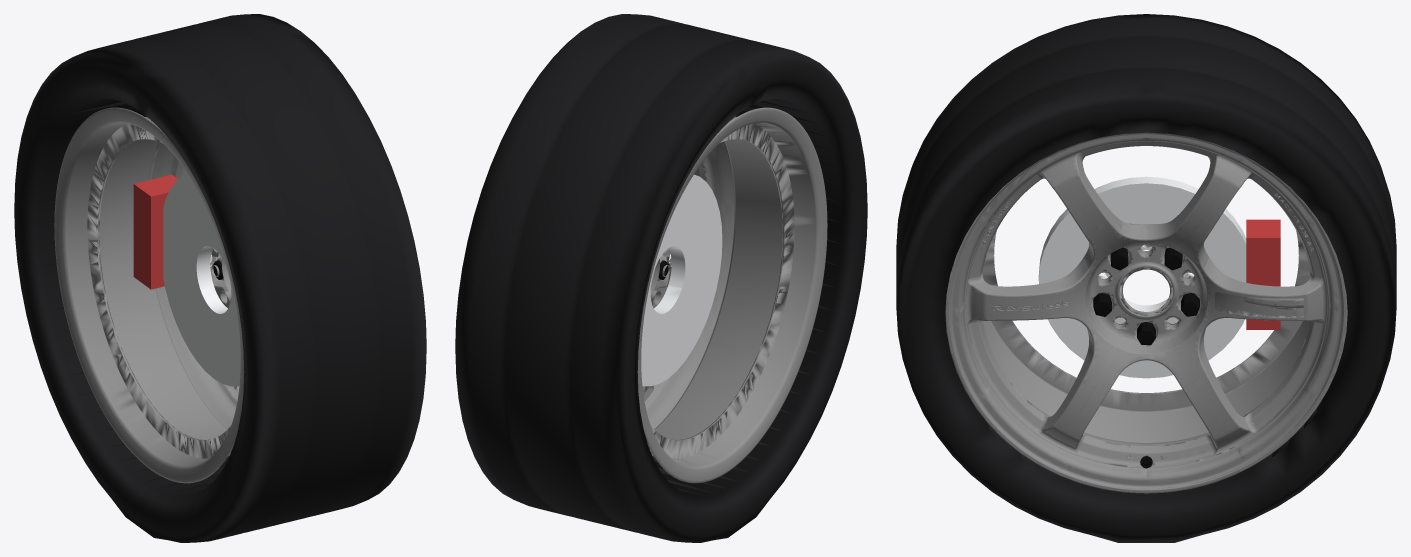
Rendered from WS02_gramlights_full.glb.
3 views of the same model, side by side, from view 1: azimuth 30°, elevation 25°; view 2: azimuth 150°, elevation 25°; view 3: azimuth 270°, elevation 25° (orthographic).
Visible parts, largest first — view 1: MOD_ND_WS02_tyre, MOD_ND_WS02_src_2, MOD_ND_WS02_disc, MOD_ND_WS02_caliper, MOD_ND_WS02_src_3, MOD_ND_WS02_src_5, MOD_ND_WS02_src_4; view 2: MOD_ND_WS02_tyre, MOD_ND_WS02_src_2, MOD_ND_WS02_disc, MOD_ND_WS02_src_3, MOD_ND_WS02_src_5, MOD_ND_WS02_src_4; view 3: MOD_ND_WS02_tyre, MOD_ND_WS02_src_4, MOD_ND_WS02_src_3, MOD_ND_WS02_src_5, MOD_ND_WS02_src_2, MOD_ND_WS02_disc, MOD_ND_WS02_src_6, MOD_ND_WS02_caliper, MOD_ND_WS02_src_0.
Boxes of the visible parts, x1,y1,x2,y2 form: MOD_ND_WS02_tyre: [14, 14, 426, 542]; MOD_ND_WS02_src_2: [54, 107, 244, 483]; MOD_ND_WS02_disc: [163, 174, 240, 386]; MOD_ND_WS02_caliper: [133, 174, 178, 289]; MOD_ND_WS02_src_3: [152, 143, 238, 426]; MOD_ND_WS02_src_5: [148, 141, 231, 429]; MOD_ND_WS02_src_4: [176, 161, 238, 422]; MOD_ND_WS02_tyre: [455, 14, 867, 542]; MOD_ND_WS02_src_2: [637, 107, 827, 483]; MOD_ND_WS02_disc: [641, 174, 722, 386]; MOD_ND_WS02_src_3: [643, 142, 731, 426]; MOD_ND_WS02_src_5: [642, 141, 734, 429]; MOD_ND_WS02_src_4: [643, 167, 700, 422]; MOD_ND_WS02_tyre: [896, 14, 1396, 542]; MOD_ND_WS02_src_4: [965, 145, 1327, 493]; MOD_ND_WS02_src_3: [945, 133, 1347, 493]; MOD_ND_WS02_src_5: [946, 132, 1346, 490]; MOD_ND_WS02_src_2: [982, 231, 1310, 442]; MOD_ND_WS02_disc: [1038, 176, 1246, 378]; MOD_ND_WS02_src_6: [986, 271, 1245, 490]; MOD_ND_WS02_caliper: [1246, 219, 1280, 329]; MOD_ND_WS02_src_0: [1093, 247, 1199, 345].
Size of the model in its own units: 0.2486 by 0.641 by 0.641.
